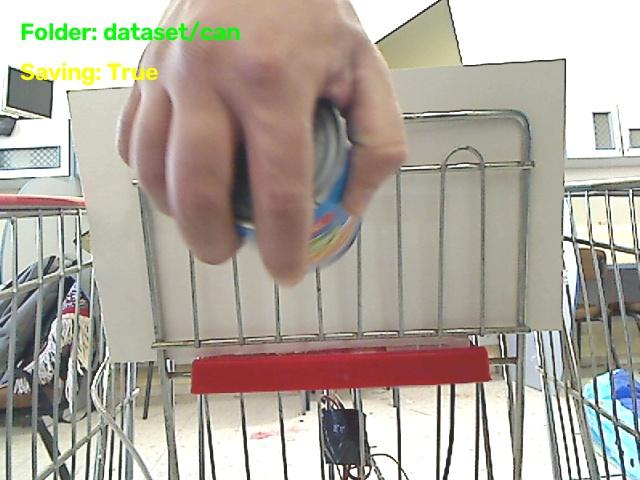can: (307, 100, 360, 267)
